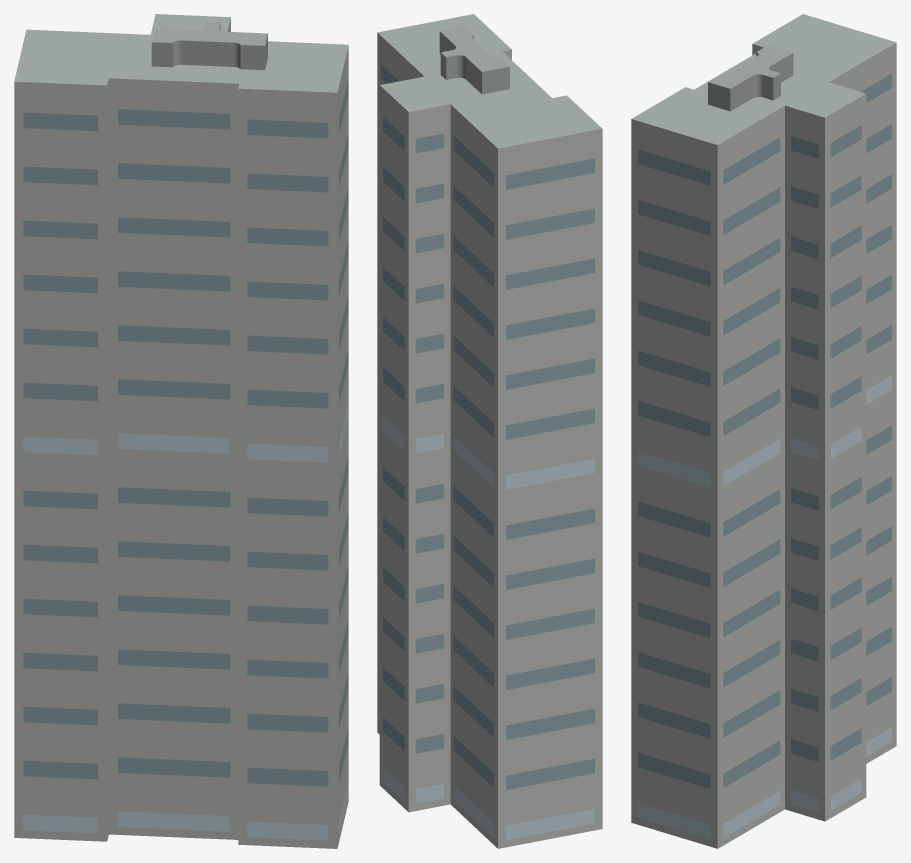
Rendered from fallback-lake-palace-116.glb.
The picture shows the model from 3 angles, left to right: view 1: azimuth 30°, elevation 25°; view 2: azimuth 150°, elevation 25°; view 3: azimuth 270°, elevation 25°; orthographic projection. The views are drawn at different scales.
Parts seen in each view (by area): view 1: fallback-lake-palace-116; view 2: fallback-lake-palace-116; view 3: fallback-lake-palace-116.
Part boxes in pixels (x1,y1,x2,y2): fallback-lake-palace-116: [14, 14, 348, 848]; fallback-lake-palace-116: [377, 14, 602, 848]; fallback-lake-palace-116: [631, 14, 896, 848].
Size of the model in its own units: 29.82 by 77 by 25.48.
